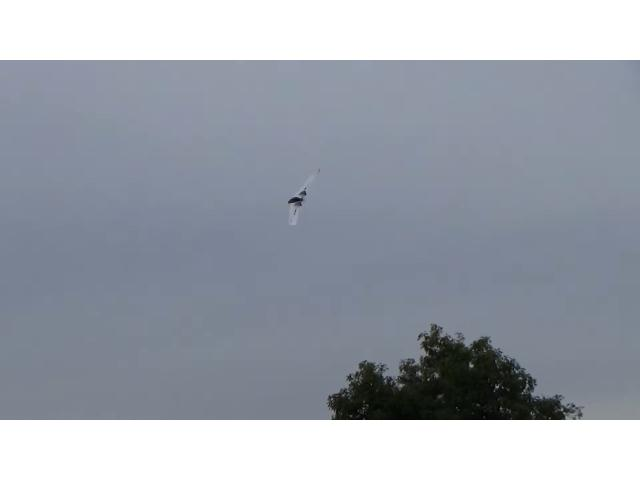Anti-Drone: (286, 170, 320, 226)
